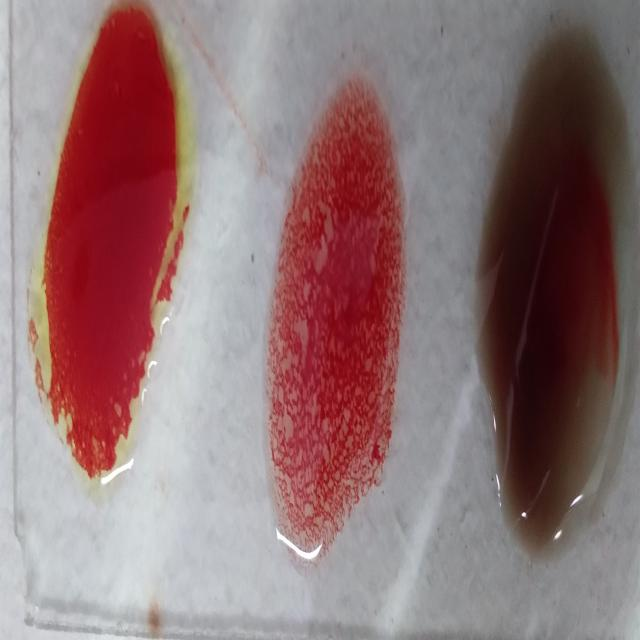B: (31, 9, 193, 504)
D: (264, 83, 406, 567)
